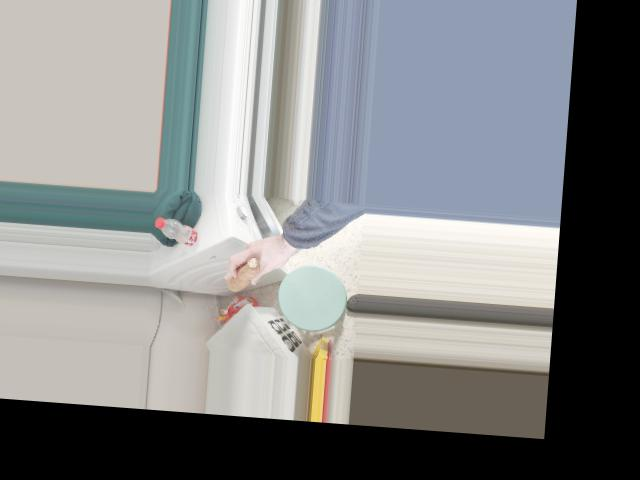sweet_potato: (222, 251, 265, 292)
